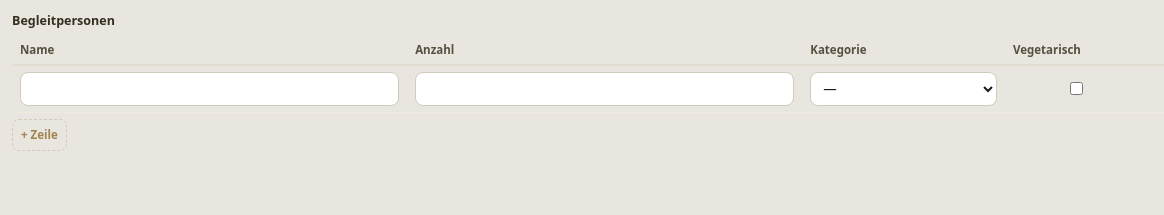
Scenario: FieldInput – Tabelle, „+ Zeile" › adds an empty row and keeps what is already in the grid
The image size is (1164, 215).
Type "Anna" into the field named "Name, Zeile 1".
click(210, 89); type("Anna")  # box [20,72,399,106]
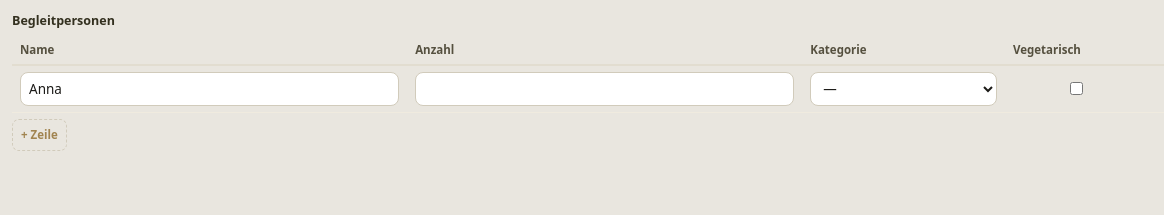
Click the button "+ Zeile".
click(39, 135)  # box [12,119,67,151]
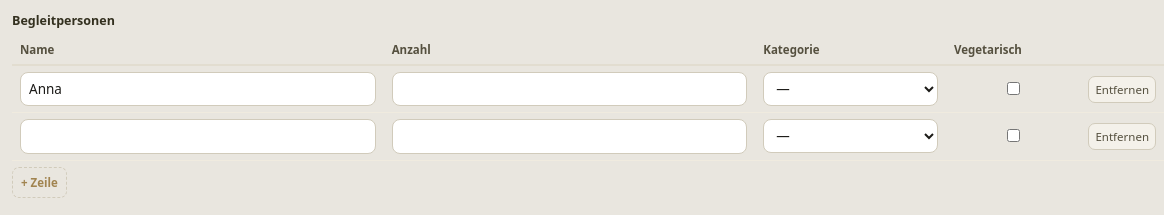
Result: the field named "Name, Zeile 2" is shown at [20,119,376,154]
